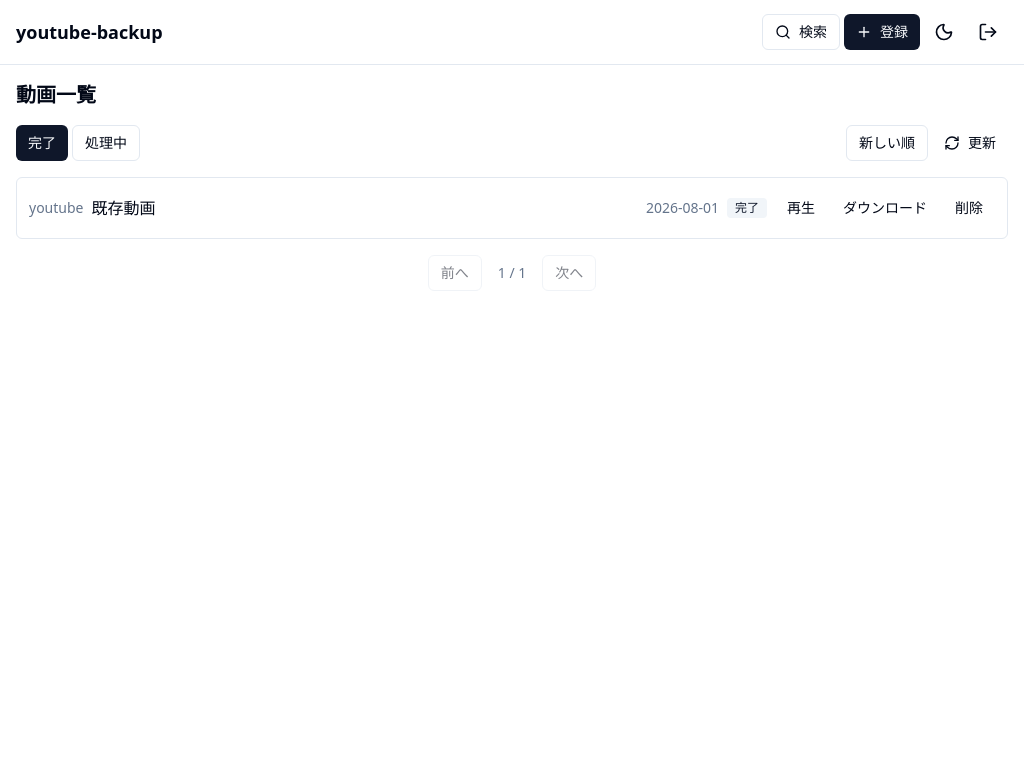
動画登録 結合（ヘッダ→ダイアログ→登録 / US4.1・FR4.1・FR4.2・C5） › ヘッダの登録から有効 URL を送信すると success 通知が出て一覧が再取得される（US4.1/FR4.1/FR4.2）
This screenshot has width=1024, height=768.
Check: the text "既存動画" is shown, box 92,197 -> 156,219
# ヘッダの登録アクション → ダイアログ表示（C5 openRegister）。
Click the button with aria-label "動画を登録".
click(882, 32)  # box 844,14 -> 920,50
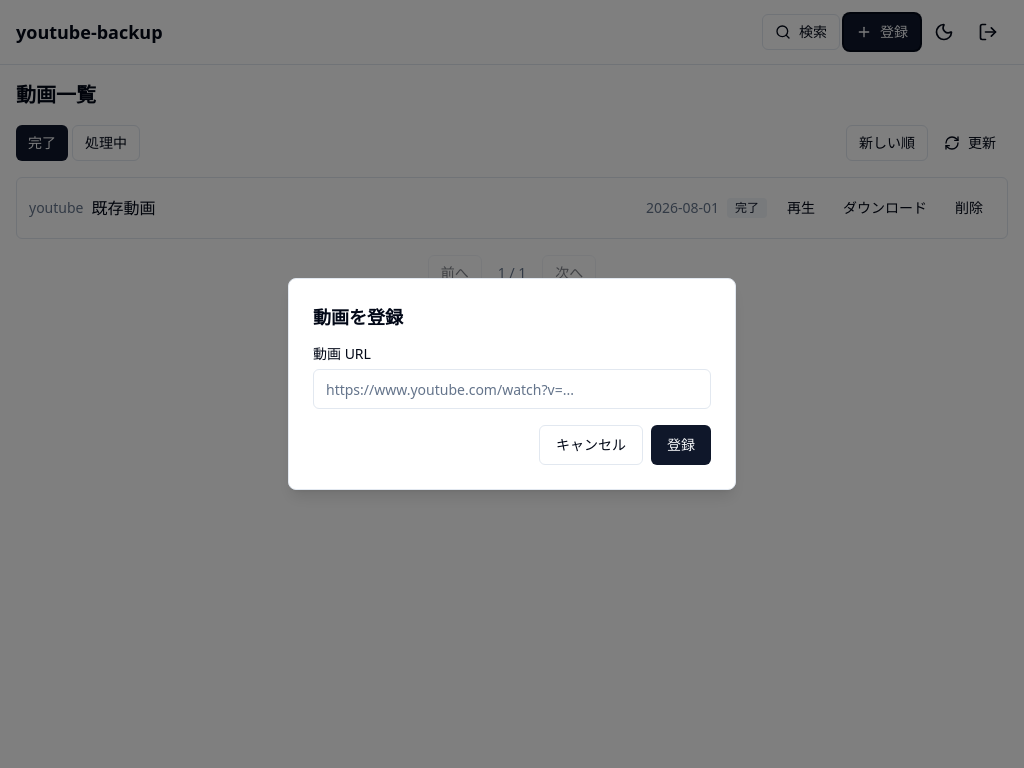
Check: the dialog is shown, box 288,278 -> 736,490
Type "https://youtu.be/newvid" into the field labelled "動画 URL".
click(512, 389); type("https://youtu.be/newvid")  # box 313,369 -> 711,409
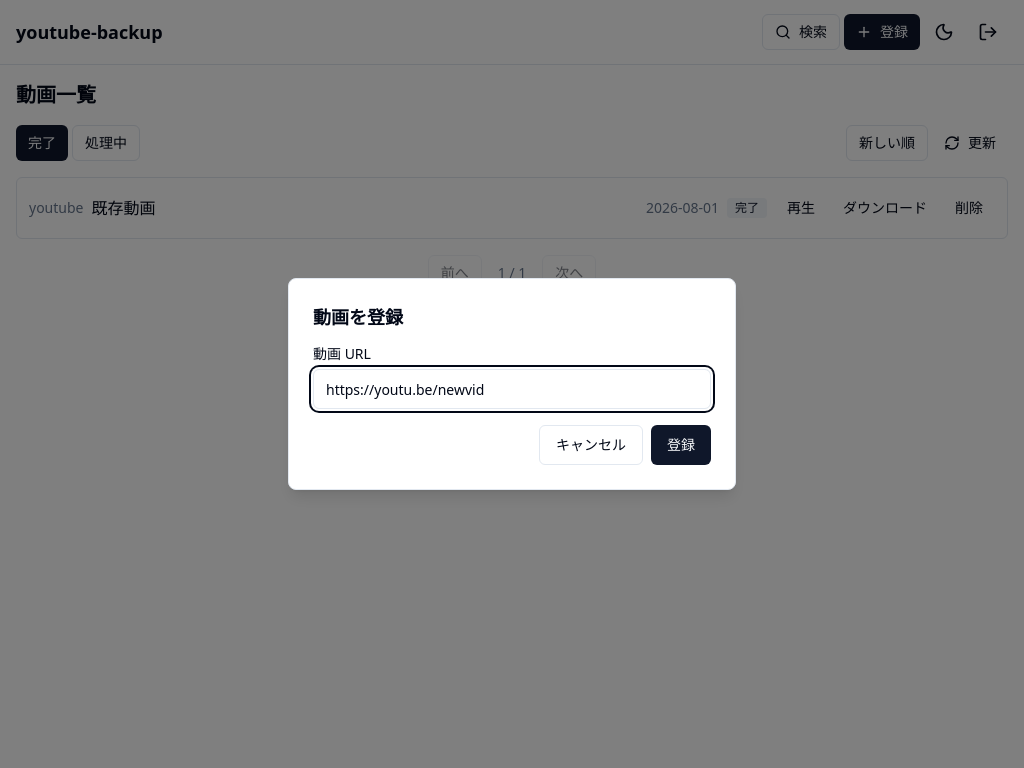
Click the button "登録".
click(681, 445)  # box 651,425 -> 711,465
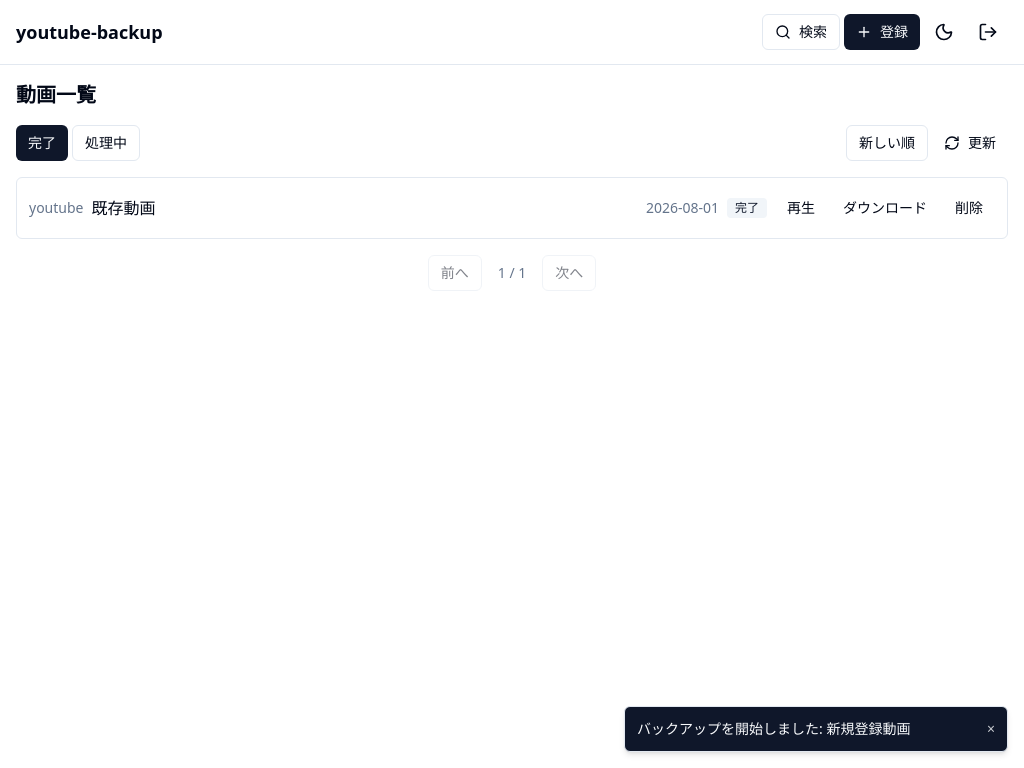
Check: the text "バックアップを開始しました: 新規登録動画" is shown, box 637,719 -> 910,739
Check: the dialog is gone
